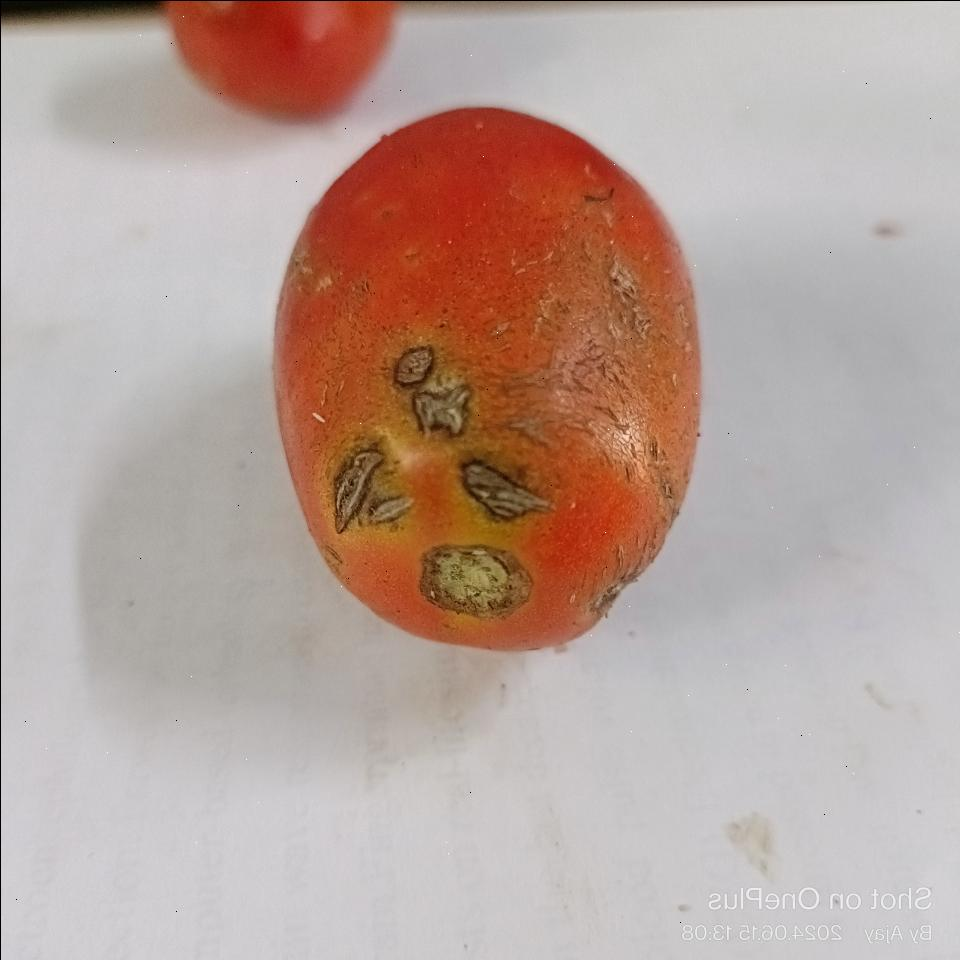Bacterial_Spot: (323, 433, 407, 537), (385, 340, 472, 440), (440, 446, 562, 514)
